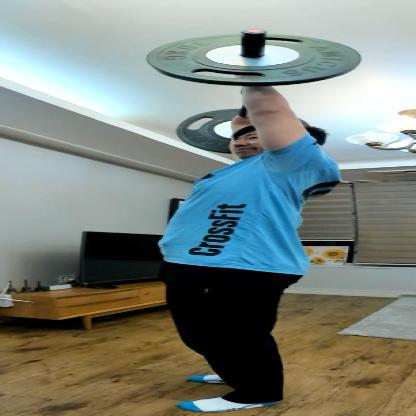Barbell: (239, 27, 273, 38)
